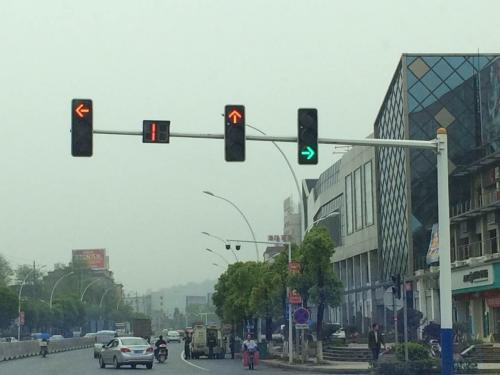green: (295, 106, 321, 168)
red: (68, 97, 96, 160), (221, 103, 248, 166)
